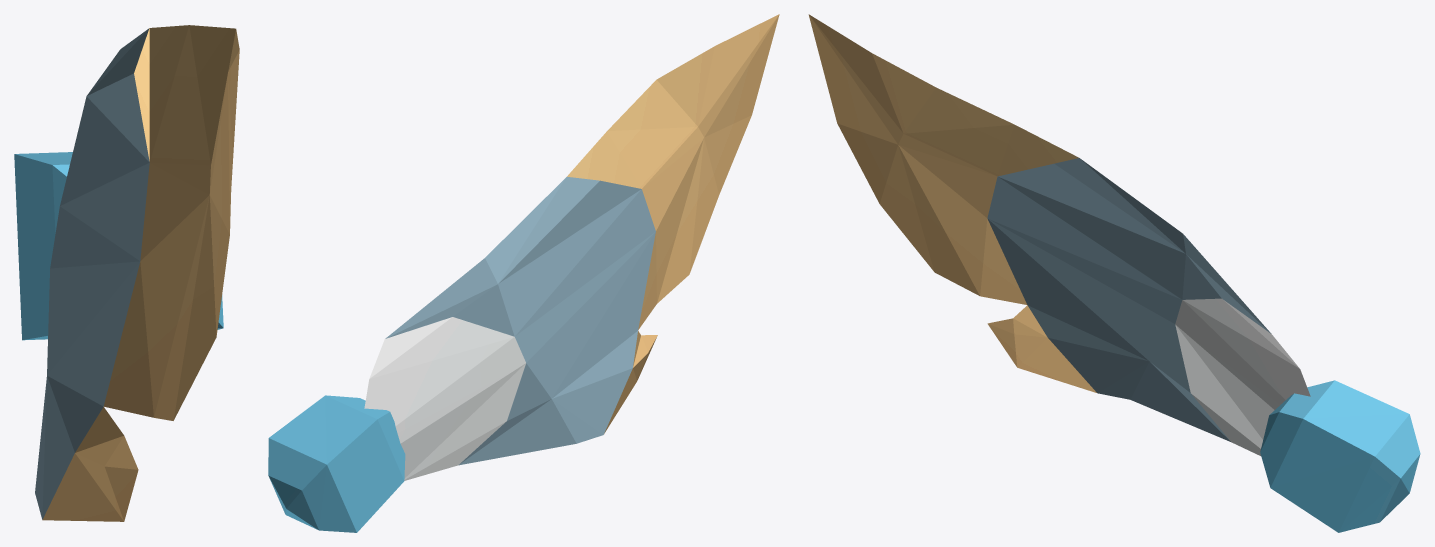
The model's file is CharSkyKid_Horn_AP12DoubleFeather_01.glb.
3 renders of one model, left to right at view 1: azimuth 30°, elevation 25°; view 2: azimuth 150°, elevation 25°; view 3: azimuth 270°, elevation 25°, orthographic. The views are drawn at different scales.
Visible parts, largest first — view 1: CharSkyKid_Horn_AP12DoubleFeather_01; view 2: CharSkyKid_Horn_AP12DoubleFeather_01; view 3: CharSkyKid_Horn_AP12DoubleFeather_01.
Part boxes in pixels (left/top/right/bottom): CharSkyKid_Horn_AP12DoubleFeather_01: left=14, top=25, right=239, bottom=521; CharSkyKid_Horn_AP12DoubleFeather_01: left=268, top=14, right=779, bottom=532; CharSkyKid_Horn_AP12DoubleFeather_01: left=808, top=14, right=1420, bottom=532.
Bounding box in the file's own units: 0.7499 × 1.07 × 1.5.
Materials: 1 (1 with a texture image).
